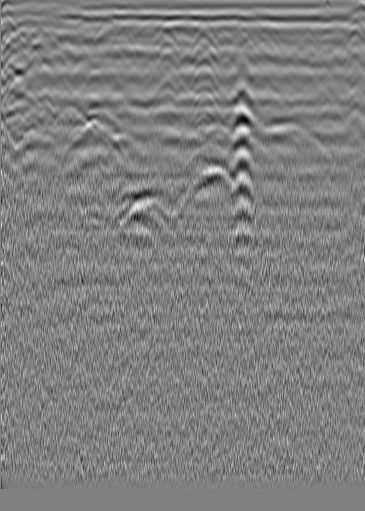가스: (69, 120, 111, 153)
상수: (320, 23, 340, 43)
오수: (32, 24, 52, 44)
우수: (191, 26, 211, 46)
